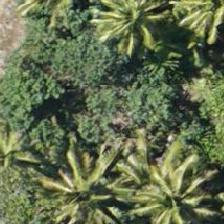coconut_tree: (121, 143, 211, 223), (21, 148, 111, 223), (0, 105, 62, 195), (84, 0, 174, 61), (173, 0, 223, 45)
